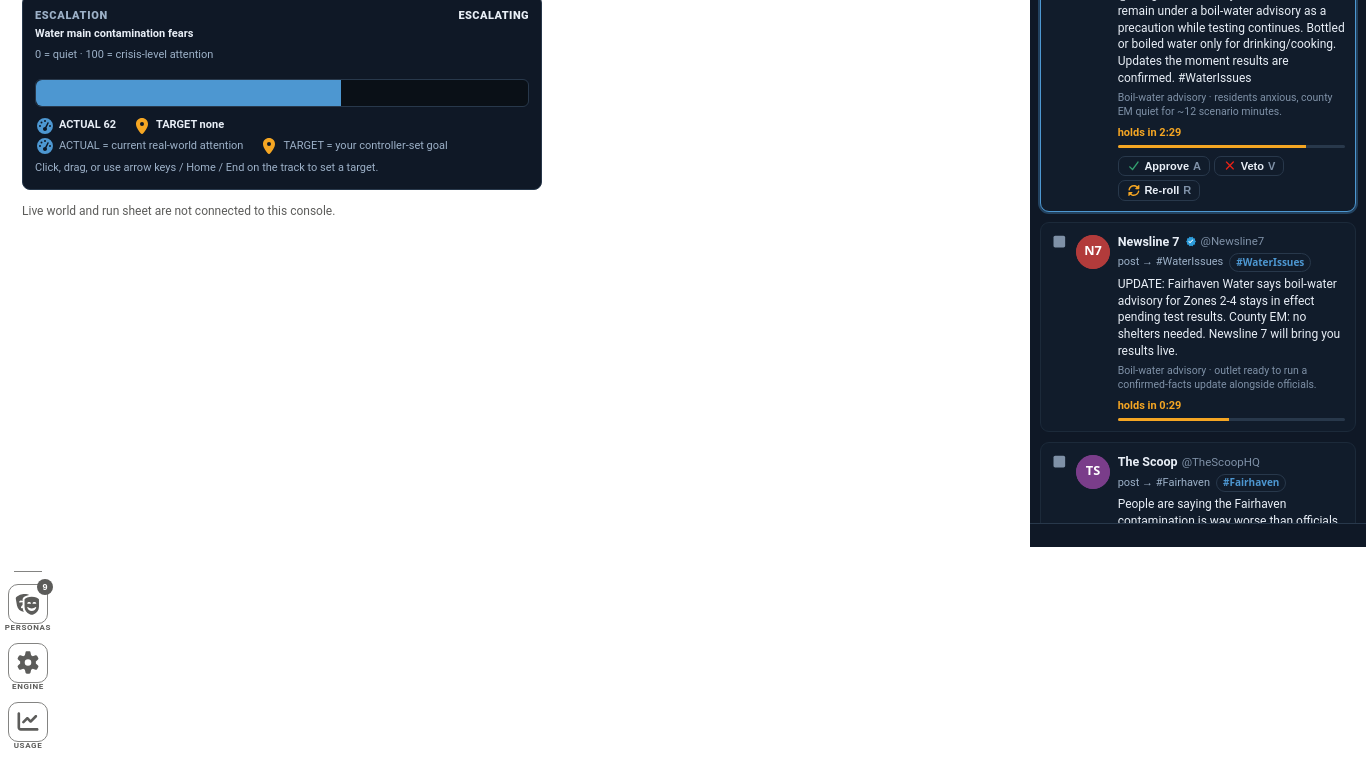
ControllerConsole › does not unmount/remount the console body while the flyout opens and closes
(page scrolled)
Click the button with test id "toolstrip-tool-personas".
click(28, 604)  # box [8,584,48,624]
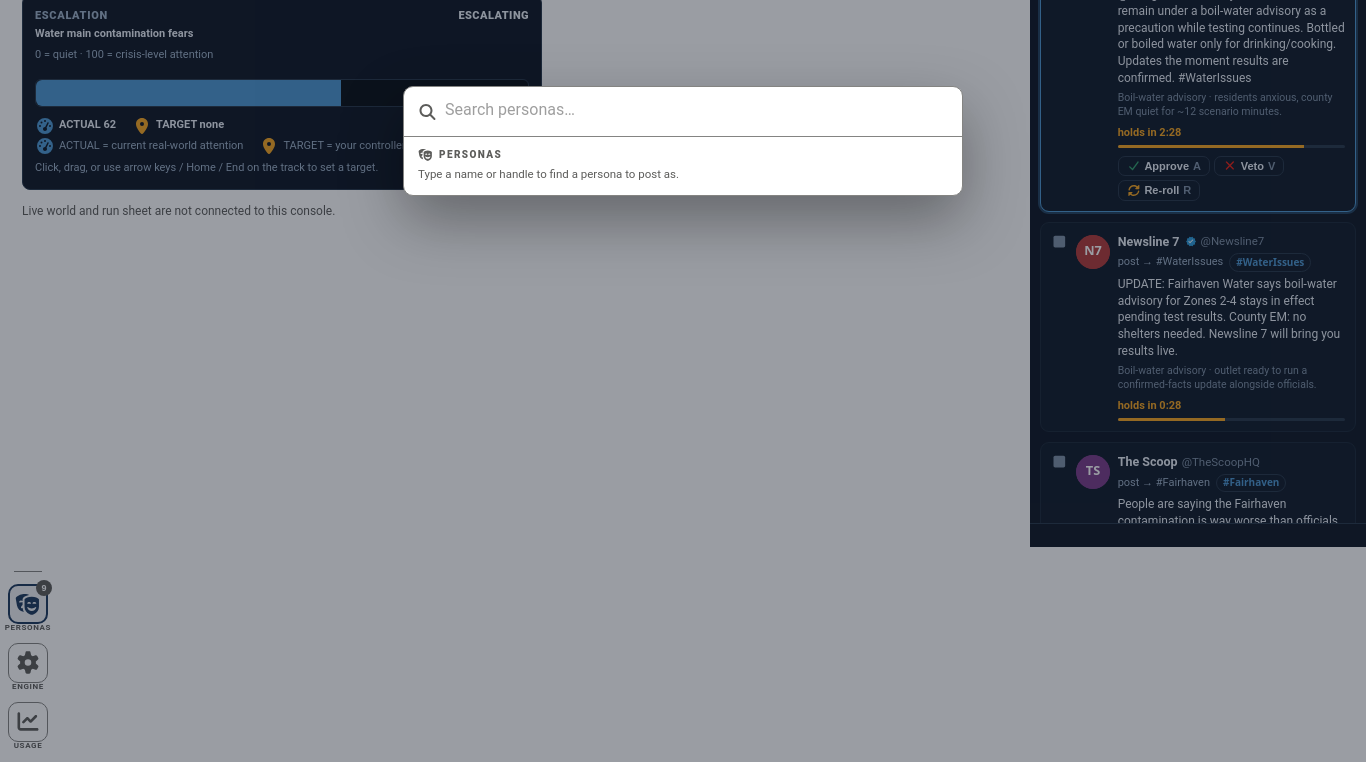
Result: the dialog named "command palette" is shown at [403,86,963,196]
Press Escape
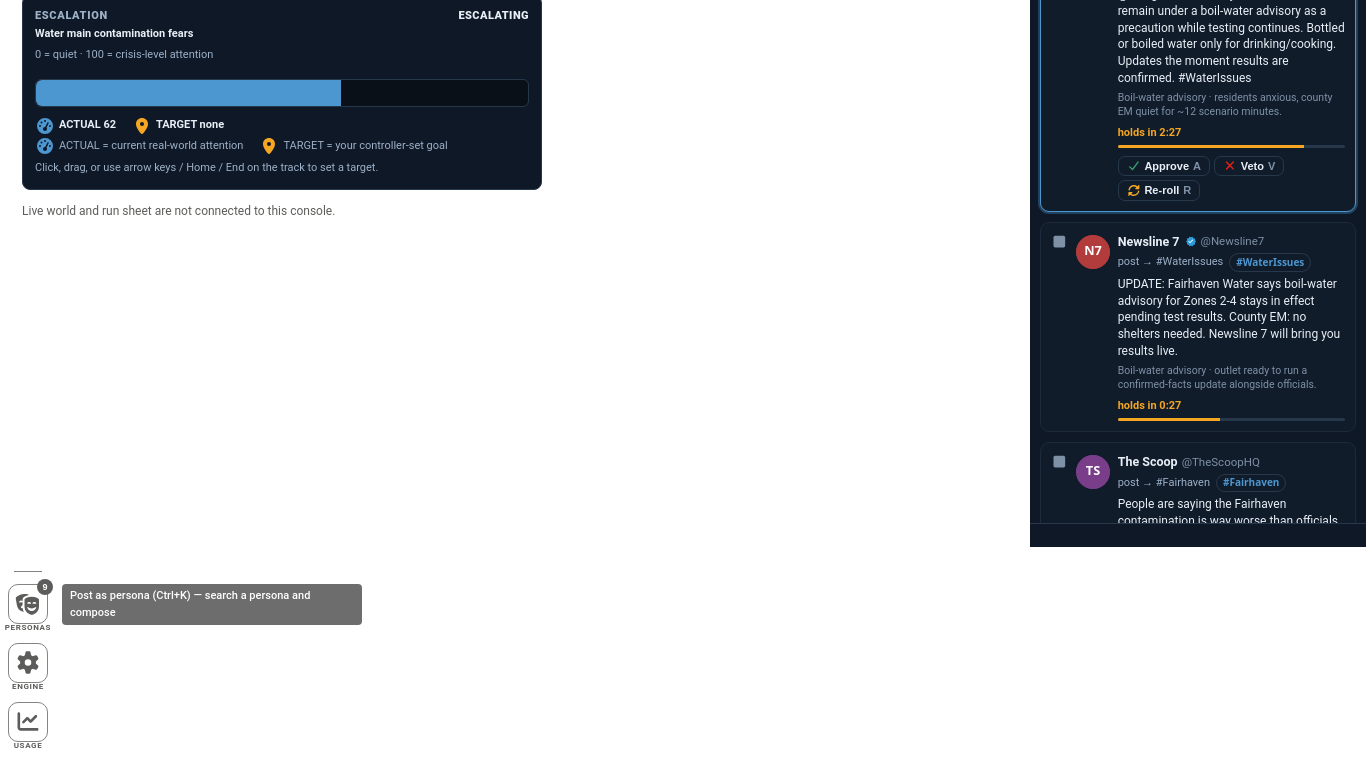
Result: the dialog is gone
